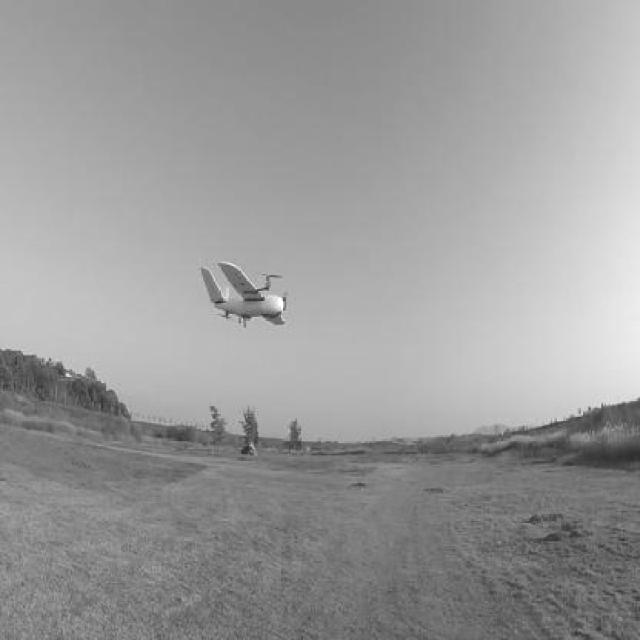iha: (228, 280, 264, 305)
